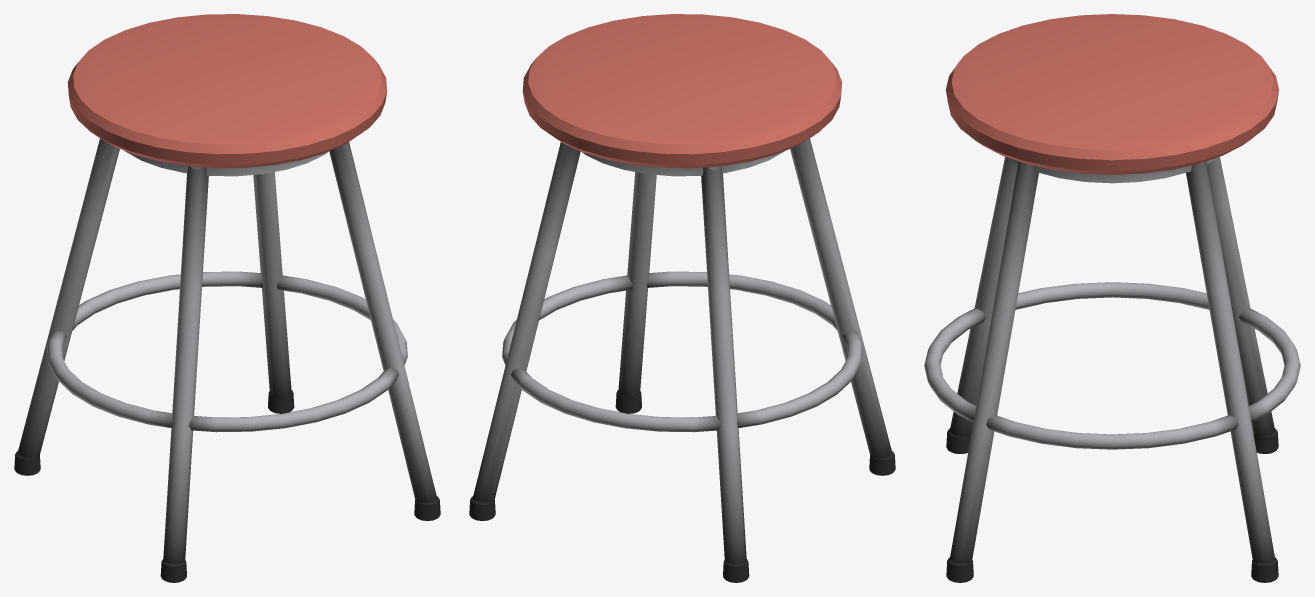
Rendered from junk_stool.glb.
3 views of the same model, side by side, from view 1: azimuth 30°, elevation 25°; view 2: azimuth 150°, elevation 25°; view 3: azimuth 270°, elevation 25° (orthographic). The views are drawn at different scales.
Visible parts, largest first — view 1: PART; view 2: PART; view 3: PART.
Part boxes in pixels (x1,y1,x2,y2): PART: (14, 14, 440, 582); PART: (469, 14, 895, 582); PART: (924, 14, 1300, 582).
Bounding box in the file's own units: 0.393 × 0.502 × 0.393.
